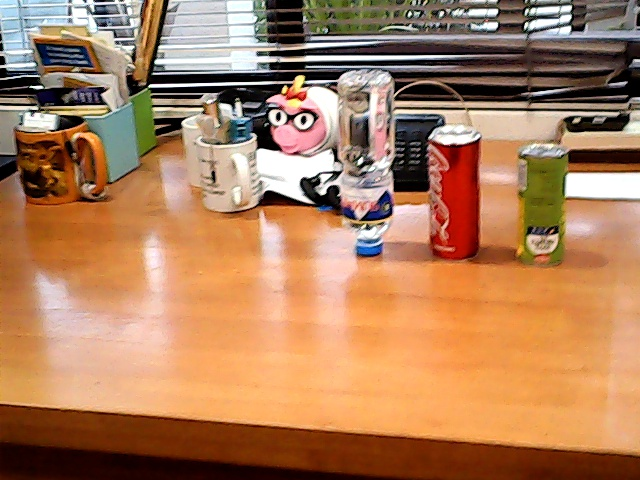Cola: (411, 111, 490, 275)
Pine Juice: (506, 131, 582, 271)
Summit Water: (331, 63, 406, 265)
